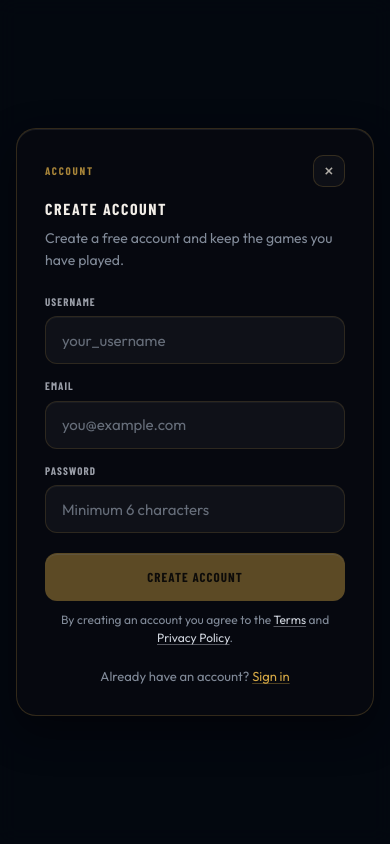
Test case: AuthModal for a guest › shows the confirmation message from the upgrade, so "your games are saved" reaches the person
Type "me@example.com" into the field with placeholder "you@example.com". click: (195, 425)
box: [45,401,345,449]
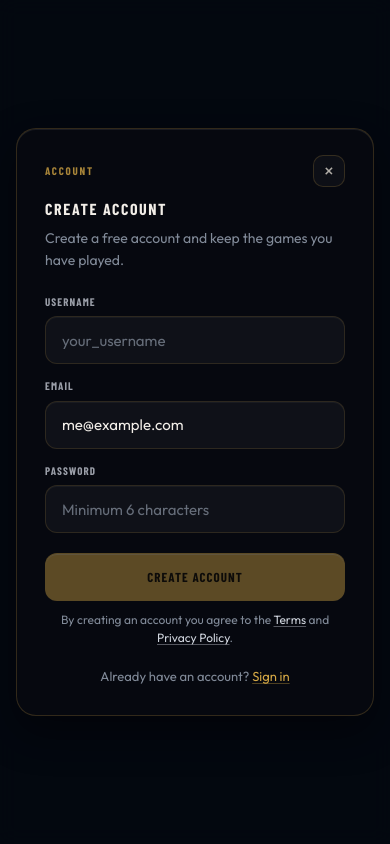
Type "domino_king" into the field with placeholder "your_username". click: (195, 340)
box: [45,316,345,364]
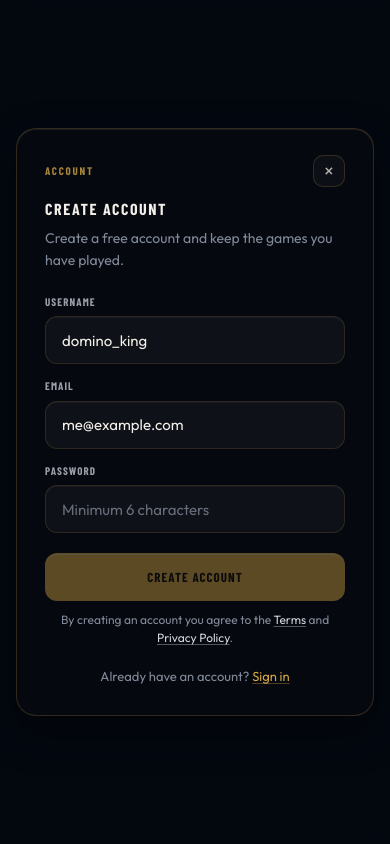
Type "password123" into the password field with placeholder "Minimum 6 characters". click: (195, 509)
box: [45,485,345,533]
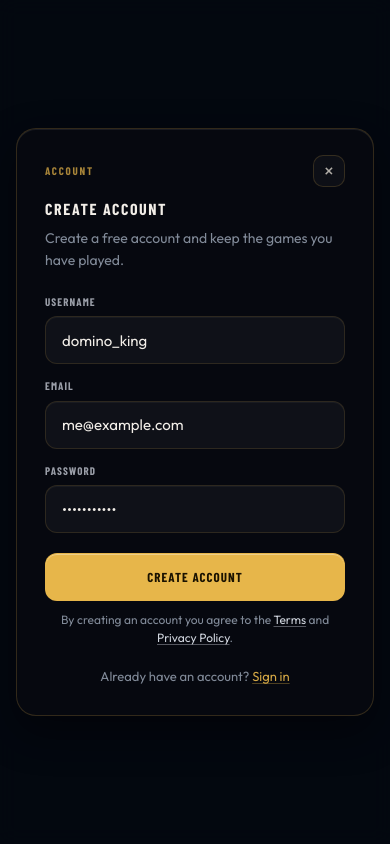
Click the button "Create account". click: (195, 577)
box: [45,553,345,601]
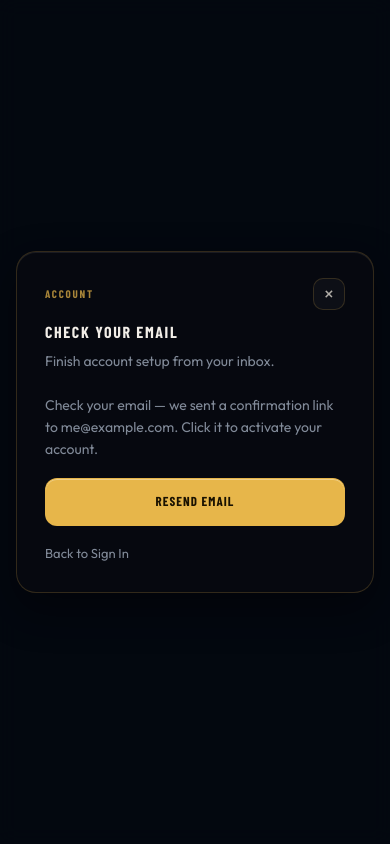
Now the text "Your games are saved to it." is shown, box [45,395,345,460]
